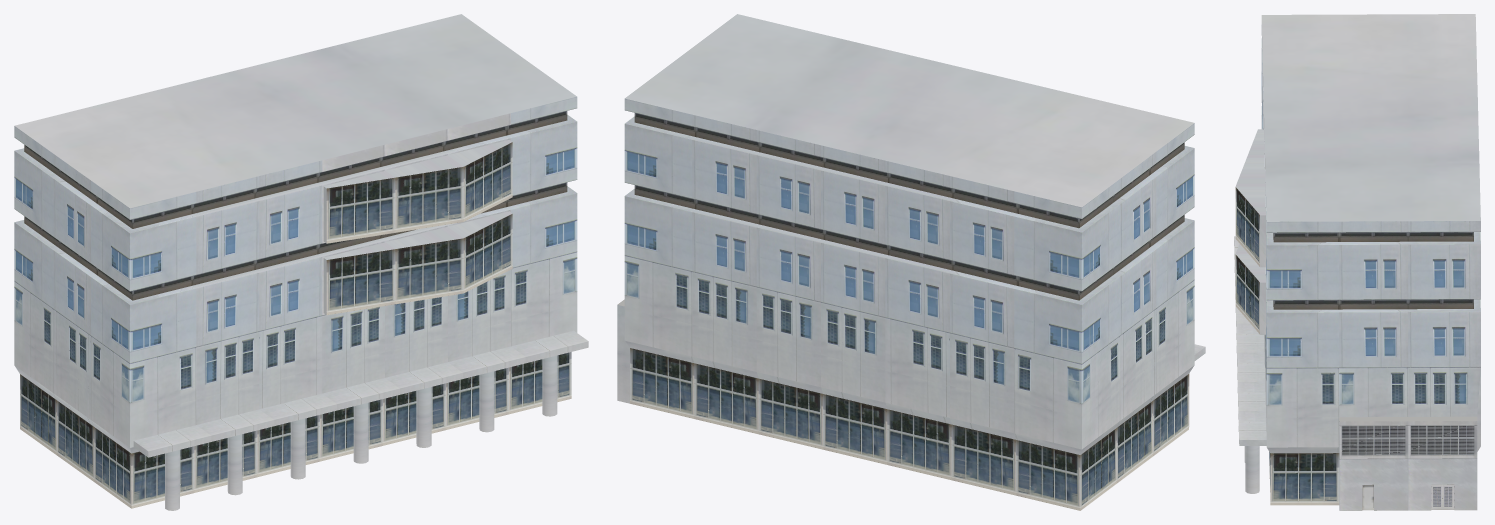
The model's file is building7.glb.
3 renders of one model, left to right at view 1: azimuth 30°, elevation 25°; view 2: azimuth 150°, elevation 25°; view 3: azimuth 270°, elevation 25°, orthographic. The views are drawn at different scales.
Visible parts, largest first — view 1: Building_01; view 2: Building_01; view 3: Building_01.
Boxes of the visible parts, <box> form: Building_01: <box>14,14,588,510</box>; Building_01: <box>617,14,1205,510</box>; Building_01: <box>1234,14,1480,510</box>.
Bounding box in the file's own units: 45 × 28.26 × 22.17.
Materials: 1 (1 with a texture image).
